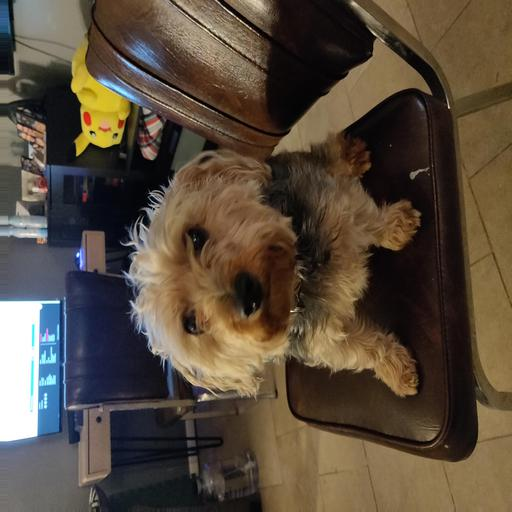dog: (105, 144, 358, 397)
